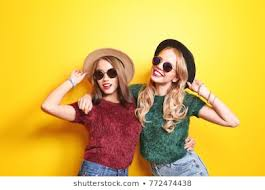person: (142, 33, 198, 110), (75, 47, 137, 116)
